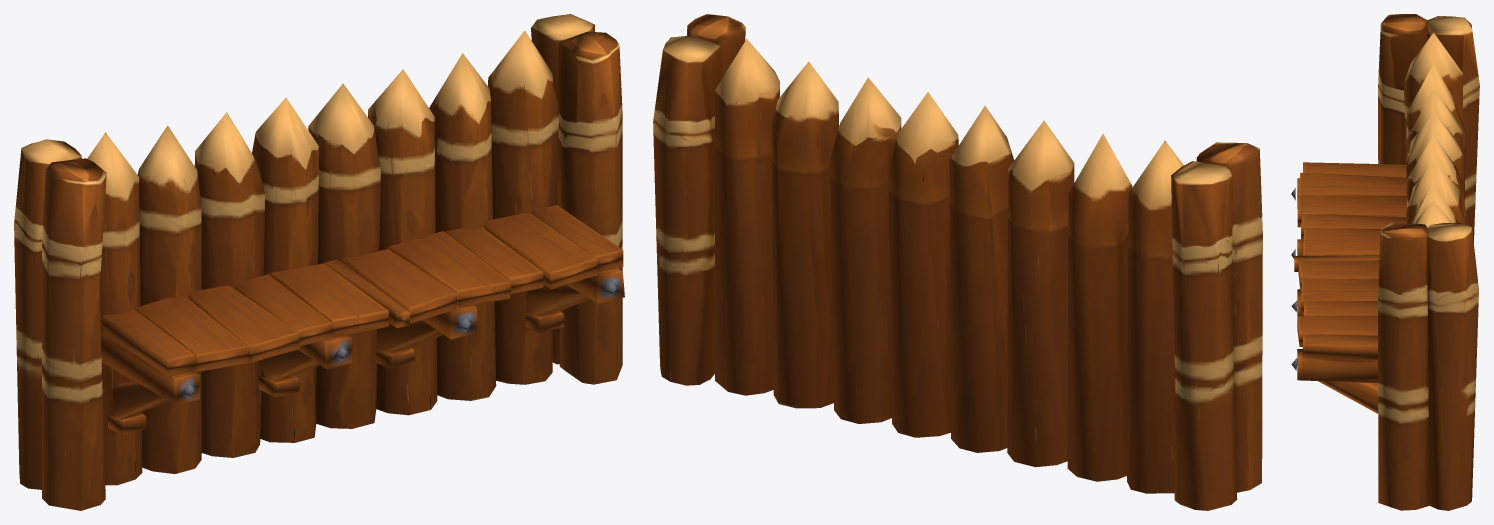
Rendered from palissade_bois_b.glb.
The picture shows the model from 3 angles, left to right: view 1: azimuth 30°, elevation 25°; view 2: azimuth 150°, elevation 25°; view 3: azimuth 270°, elevation 25°; orthographic projection. The views are drawn at different scales.
Visible parts, largest first — view 1: geometry_0; view 2: geometry_0; view 3: geometry_0.
Part boxes in pixels (bbox=[...]): geometry_0: bbox=[14, 14, 624, 510]; geometry_0: bbox=[653, 14, 1262, 510]; geometry_0: bbox=[1291, 14, 1479, 510].
Bounding box in the file's own units: 0.9482 × 0.5391 × 0.3286.
Materials: 1 (1 with a texture image).
